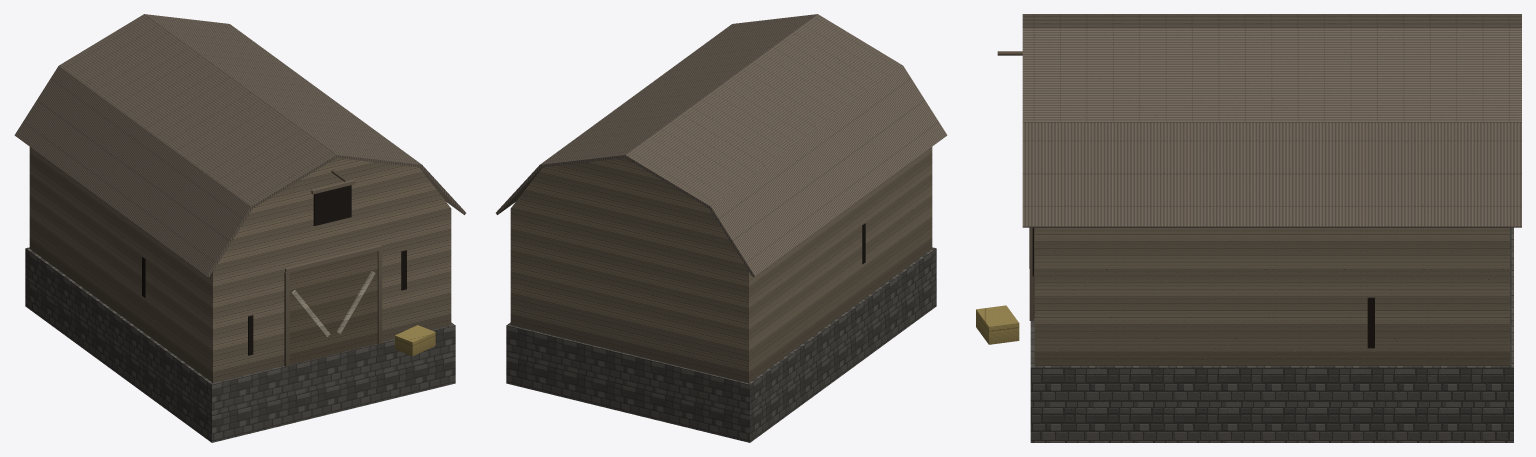
The model's file is celeiro_seco.glb.
The picture shows the model from 3 angles, left to right: view 1: azimuth 30°, elevation 25°; view 2: azimuth 150°, elevation 25°; view 3: azimuth 270°, elevation 25°; orthographic projection. The views are drawn at different scales.
Parts seen in each view (by area): view 1: celeiro_seco, celeiro_seco_madeira; view 2: celeiro_seco, celeiro_seco_madeira; view 3: celeiro_seco, celeiro_seco_madeira.
Boxes of the visible parts, left/top/right/bottom form: celeiro_seco: left=14, top=14, right=465, bottom=442; celeiro_seco_madeira: left=29, top=147, right=451, bottom=382; celeiro_seco: left=496, top=14, right=947, bottom=442; celeiro_seco_madeira: left=510, top=147, right=932, bottom=382; celeiro_seco: left=976, top=14, right=1521, bottom=442; celeiro_seco_madeira: left=1029, top=227, right=1509, bottom=365.
Size of the model in its own units: 9.8 by 9.4 by 13.77.
5 materials, 4 textured.
